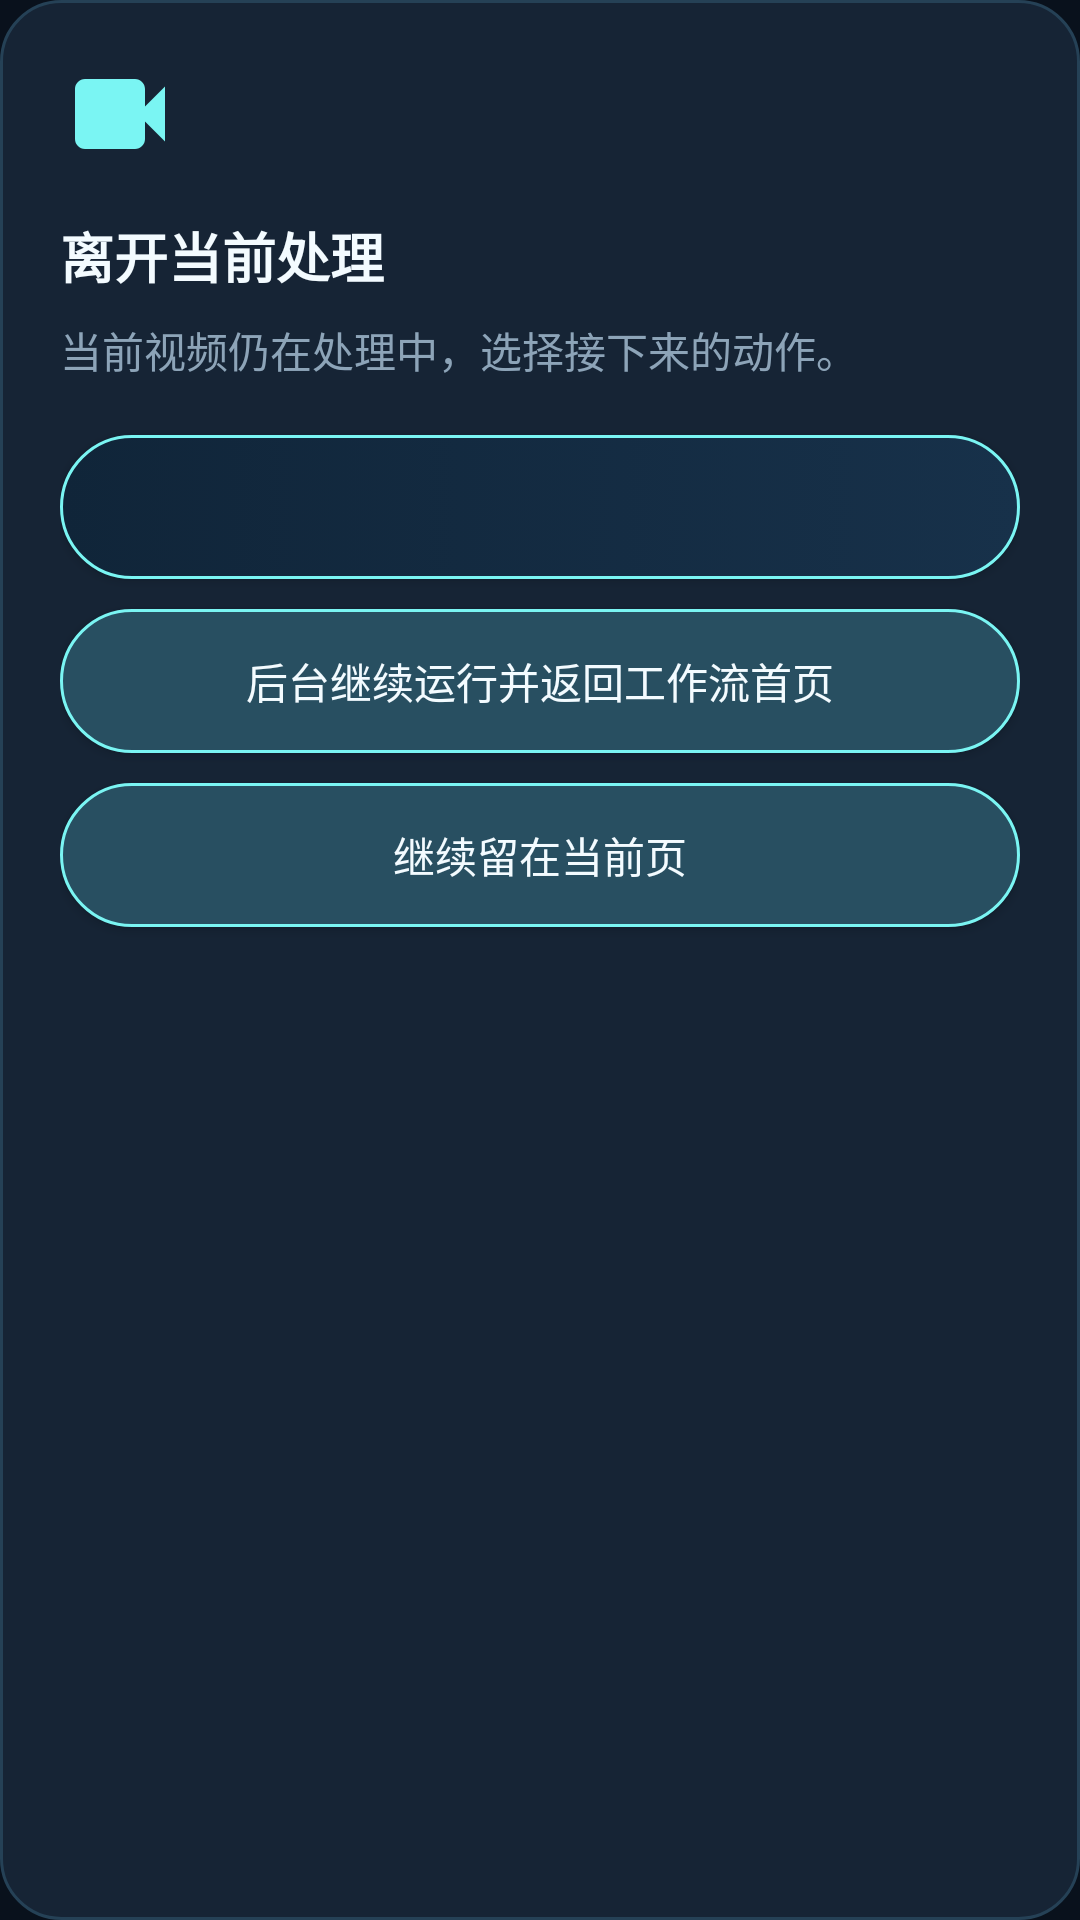

Icon click points for this 1080 x 1920 phone screenshot, format (x,y):
video: (120,114)
